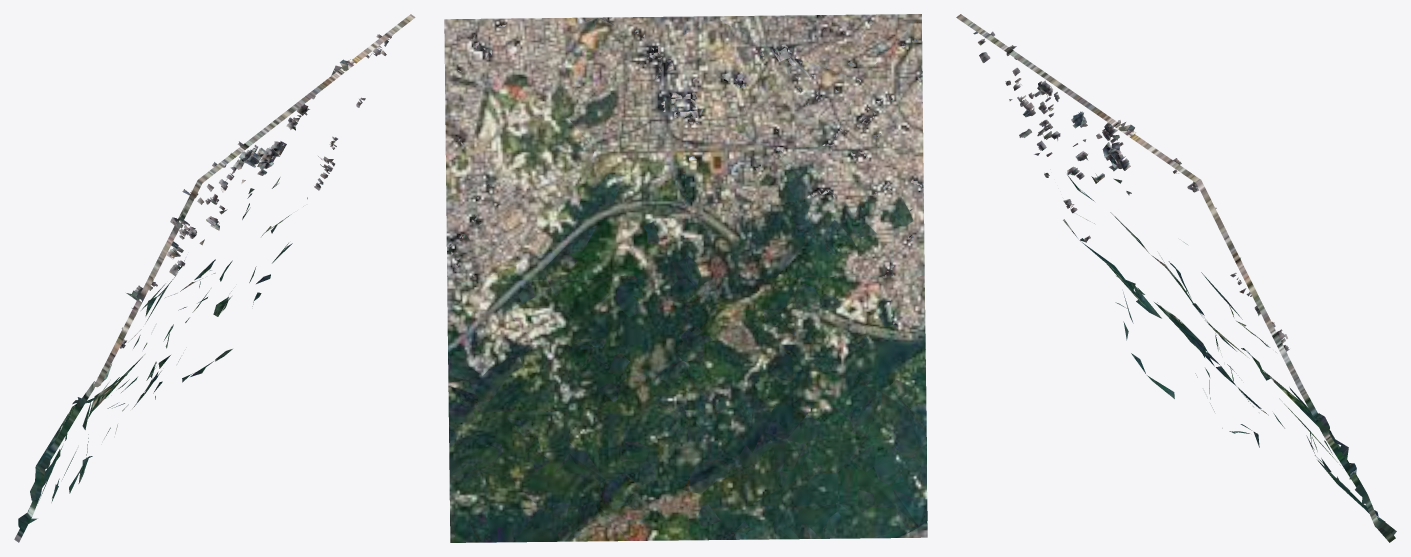
3 views of the same model, side by side, from view 1: azimuth 30°, elevation 25°; view 2: azimuth 150°, elevation 25°; view 3: azimuth 270°, elevation 25° (orthographic). The views are drawn at different scales.
Size of the model in its own units: 4904 by 4462 by 4256.
1 material, 1 textured.
